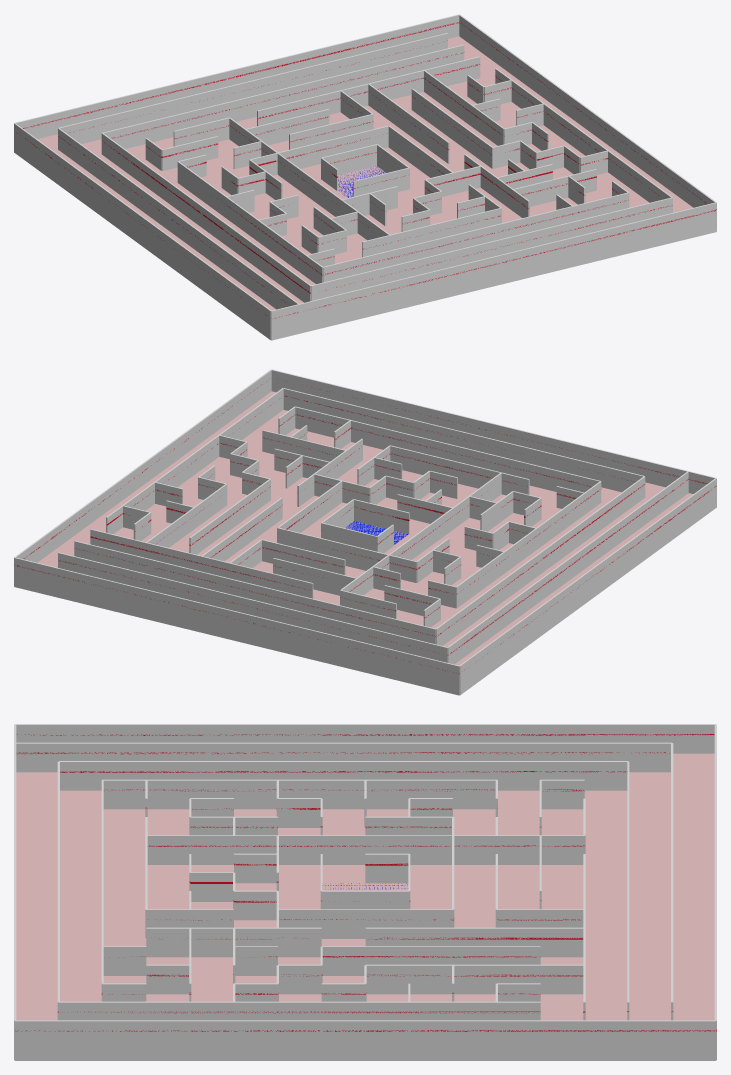
File: maze1.dae
3 views of the same model, one above another, from view 1: azimuth 30°, elevation 25°; view 2: azimuth 150°, elevation 25°; view 3: azimuth 270°, elevation 25° (orthographic). The views are drawn at different scales.
Parts seen in each view (by area): view 1: Cube.001, Cube.002, Cube.070; view 2: Cube.001, Cube.002, Cube.070; view 3: Cube.001, Cube.002, Cube.070.
Boxes of the visible parts, x1,y1,x2,y2 form: Cube.001: [14, 14, 716, 340]; Cube.002: [37, 36, 693, 310]; Cube.070: [18, 22, 716, 318]; Cube.001: [14, 369, 716, 695]; Cube.002: [37, 391, 693, 665]; Cube.070: [14, 381, 716, 673]; Cube.001: [14, 724, 716, 1060]; Cube.002: [16, 753, 714, 1020]; Cube.070: [15, 734, 716, 1031].
Size of the model in its own units: 32.1 by 32.1 by 2.
